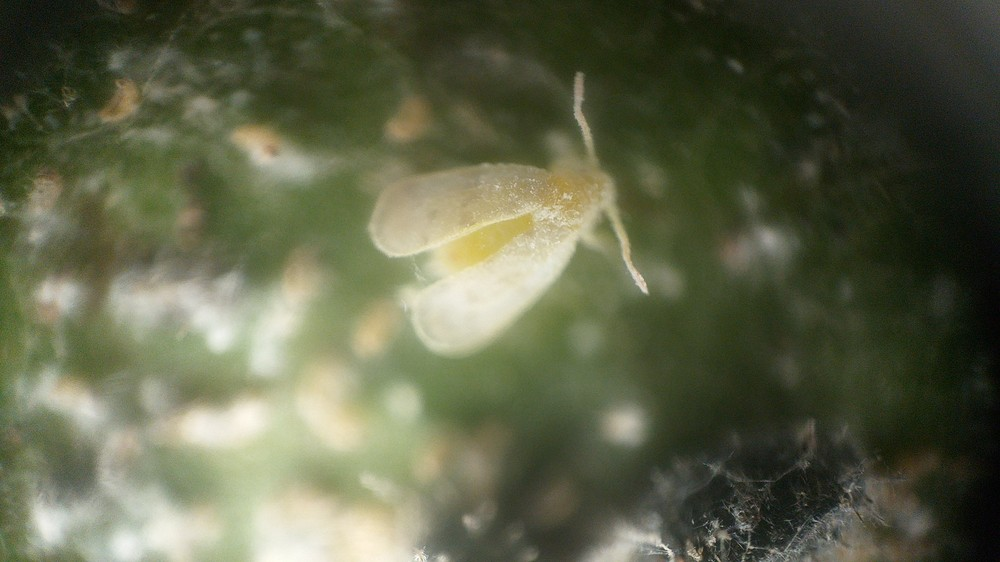Mosca Blanca: (360, 66, 657, 365)
